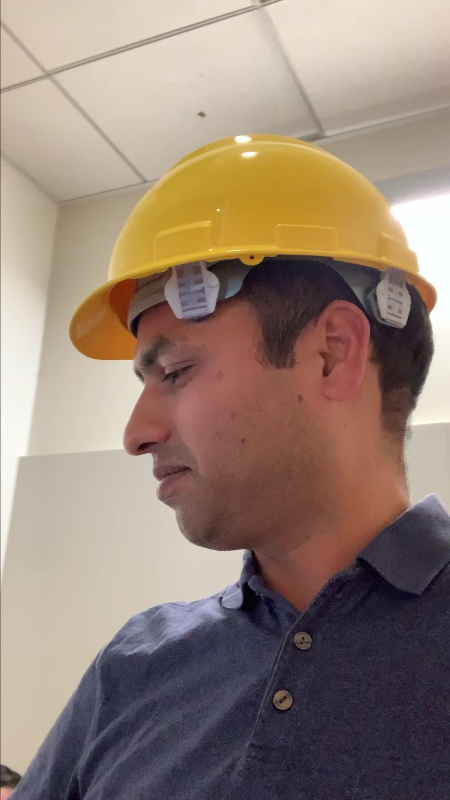helmet: (64, 134, 440, 340)
